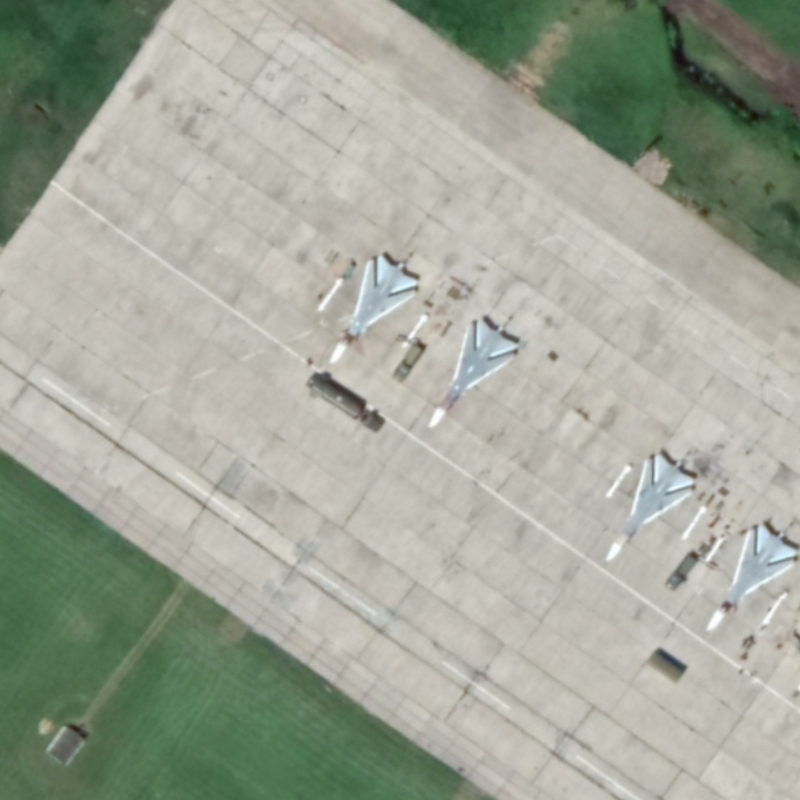A20: (425, 316, 523, 430), (704, 521, 800, 635), (326, 251, 421, 366), (603, 451, 698, 565)
